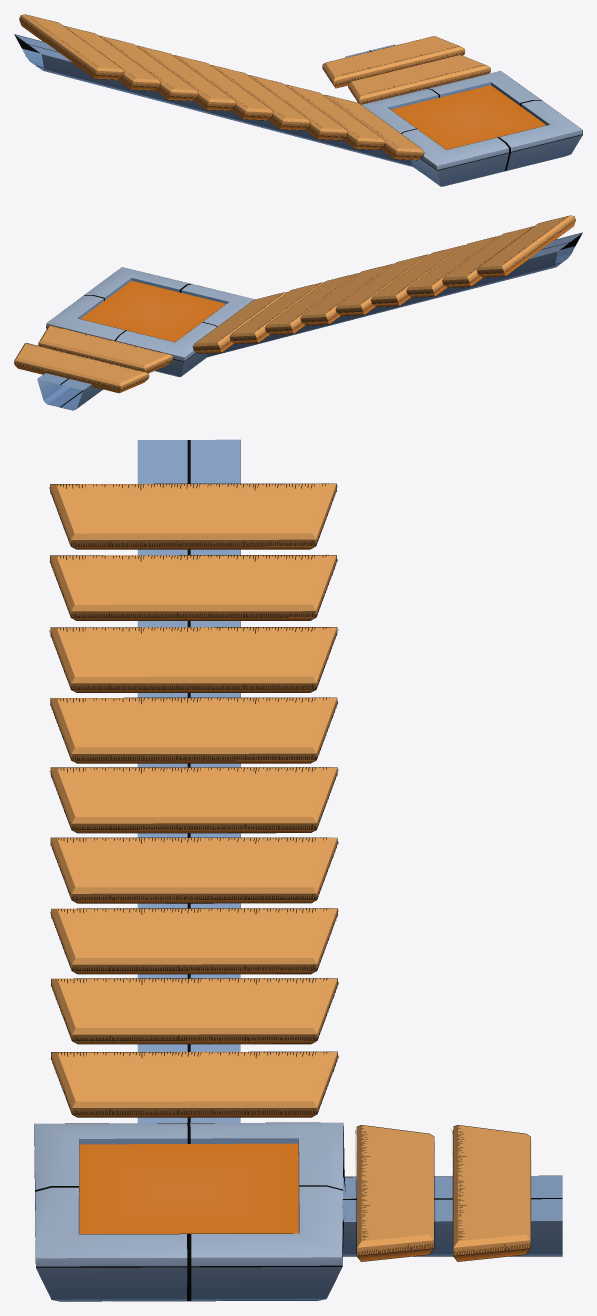
Rendered from Platform_Stairs_01.glb.
3 views of the same model, one above another, from view 1: azimuth 30°, elevation 25°; view 2: azimuth 150°, elevation 25°; view 3: azimuth 270°, elevation 25° (orthographic). The views are drawn at different scales.
Visible parts, largest first — view 1: Platform_Stairs_01; view 2: Platform_Stairs_01; view 3: Platform_Stairs_01.
Boxes of the visible parts, bbox=[...] form: Platform_Stairs_01: bbox=[14, 14, 582, 186]; Platform_Stairs_01: bbox=[14, 215, 582, 410]; Platform_Stairs_01: bbox=[34, 439, 562, 1301].
Bounding box in the file's own units: 9.1 × 3.56 × 4.28.
3 materials, 2 textured.
